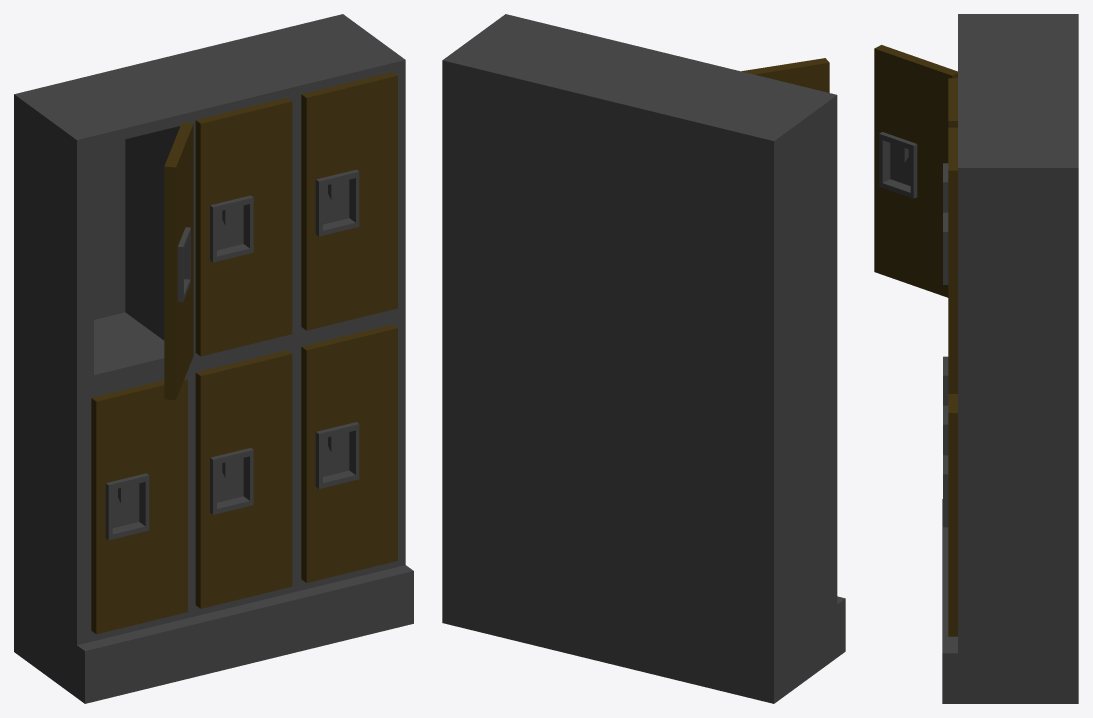
File: DD_14_lockersOpenVar1_HENRY.fbx
3 renders of one model, left to right at view 1: azimuth 30°, elevation 25°; view 2: azimuth 150°, elevation 25°; view 3: azimuth 270°, elevation 25°, orthographic. The views are drawn at different scales.
Visible parts, largest first — view 1: lockerBody, door2, door5, door3, door6, door4, door1, lock4, lock3, lock6, lock2, lock5 (+1 smaller); view 2: lockerBody, door1; view 3: lockerBody, door1, door3, door6, lock1, door2, lock3, lock6.
Boxes of the visible parts, x1,y1,x2,y2 form: lockerBody: [14, 14, 413, 703]; door2: [195, 98, 292, 356]; door5: [195, 350, 292, 608]; door3: [301, 72, 397, 330]; door6: [301, 324, 397, 582]; door4: [91, 377, 187, 634]; door1: [164, 123, 193, 399]; lock4: [105, 473, 149, 540]; lock3: [315, 169, 359, 236]; lock6: [315, 422, 359, 488]; lock2: [210, 195, 253, 262]; lock5: [210, 448, 253, 514]; lockerBody: [442, 14, 845, 703]; door1: [741, 58, 829, 92]; lockerBody: [942, 14, 1078, 703]; door1: [874, 45, 957, 297]; door3: [948, 127, 957, 393]; door6: [948, 394, 957, 636]; lock1: [879, 132, 917, 198]; door2: [948, 78, 957, 127]; lock3: [943, 212, 948, 284]; lock6: [943, 455, 948, 527].
Bounding box in the file's own units: 9.89 × 16.03 × 5.54.
